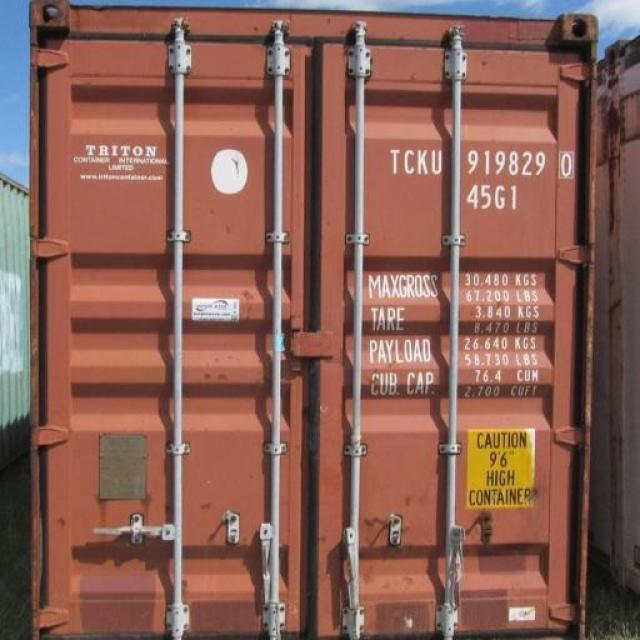ISO: (468, 186, 521, 210)
container_number: (389, 147, 573, 176)
